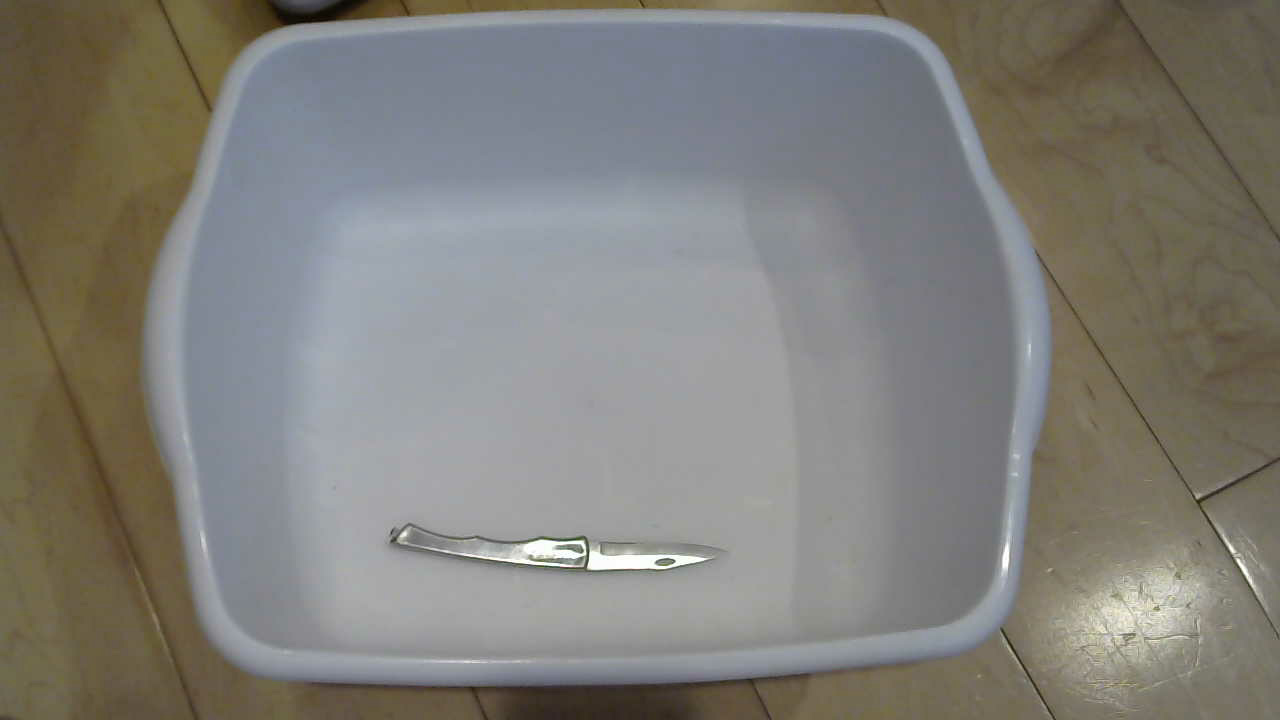knife: (389, 518, 734, 583)
